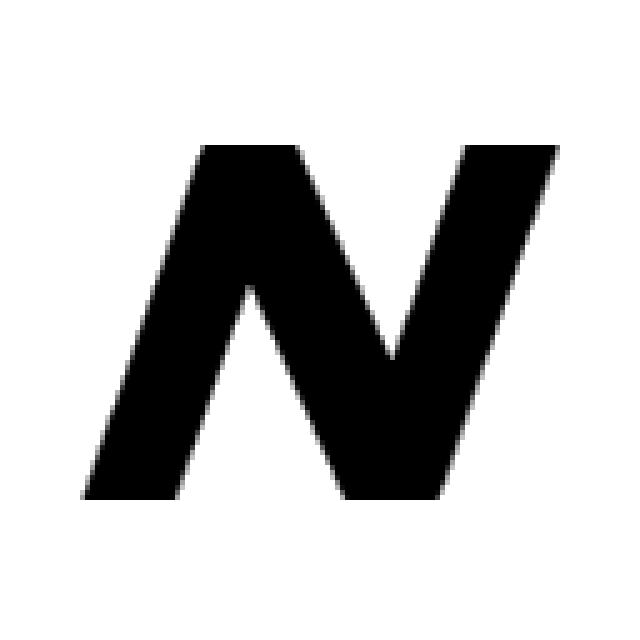N: (75, 130, 565, 510)
